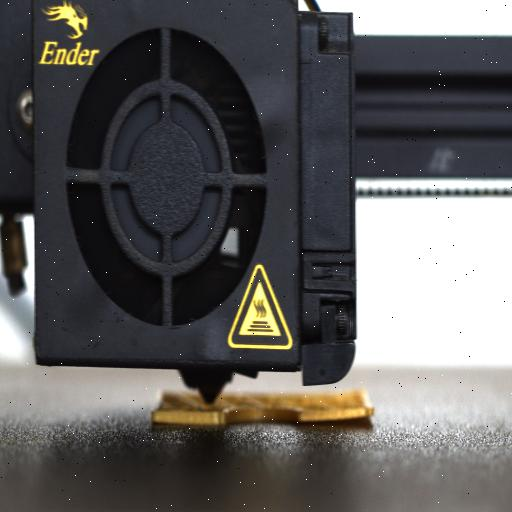warp: (296, 396, 378, 430)
